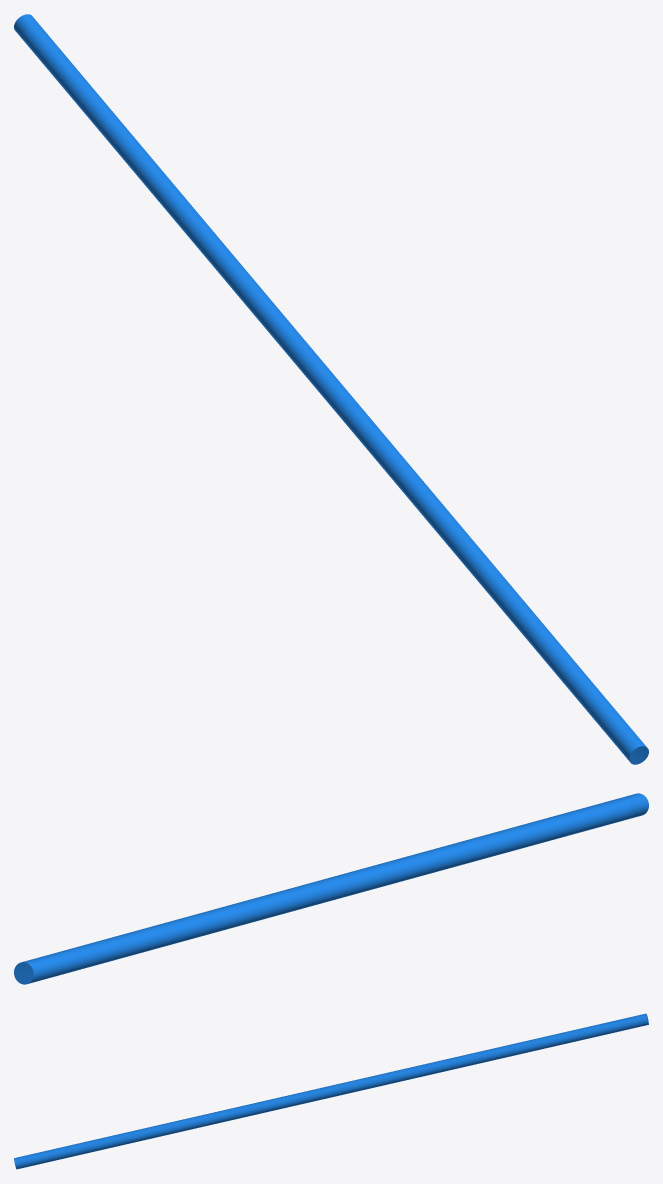
The model's file is Event_421115418_MET.fbx.
3 views of the same model, one above another, from view 1: azimuth 30°, elevation 25°; view 2: azimuth 150°, elevation 25°; view 3: azimuth 270°, elevation 25° (orthographic). The views are drawn at different scales.
Visible parts, largest first — view 1: Model; view 2: Model; view 3: Model.
Part boxes in pixels (left/top/right/bottom): Model: left=14, top=14, right=648, bottom=764; Model: left=14, top=793, right=648, bottom=984; Model: left=14, top=1013, right=648, bottom=1169.
Bounding box in the file's own units: 0.04 × 0.5852 × 2.17.
